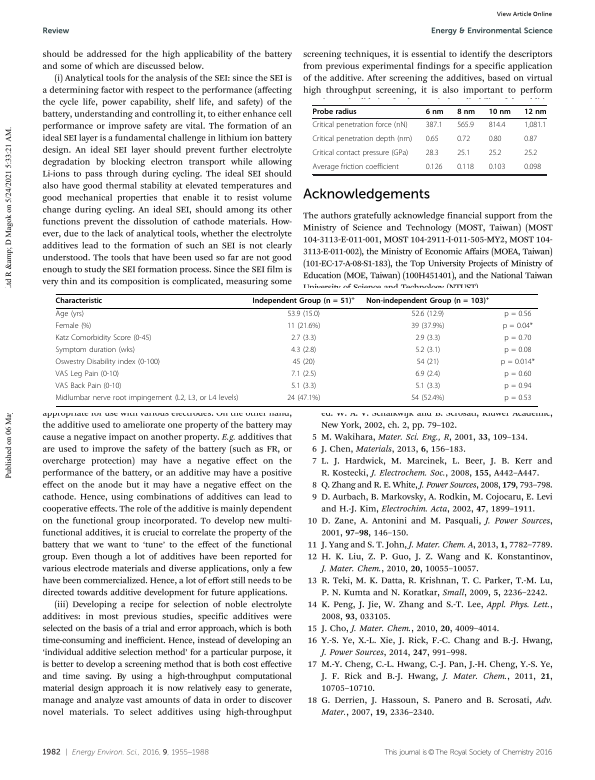borderless: (54, 293, 538, 406), (311, 104, 546, 174)
cell: (55, 394, 239, 403), (365, 295, 490, 306), (252, 295, 356, 306), (55, 358, 161, 368), (55, 334, 152, 344), (312, 135, 413, 144), (312, 149, 409, 158), (312, 121, 408, 130), (55, 346, 136, 356), (312, 163, 400, 172), (55, 382, 122, 391), (55, 370, 120, 379), (55, 297, 103, 306), (55, 322, 92, 332), (312, 108, 358, 116), (500, 358, 536, 368), (286, 310, 321, 320), (286, 322, 321, 332), (410, 322, 445, 332), (411, 310, 445, 320), (502, 322, 534, 332), (286, 394, 321, 403), (410, 394, 445, 403), (55, 310, 85, 320), (503, 310, 532, 320), (503, 334, 532, 344), (503, 346, 532, 356), (290, 334, 317, 344), (414, 334, 441, 344), (290, 346, 317, 356), (414, 346, 441, 356), (503, 370, 532, 379), (503, 382, 532, 391), (503, 394, 532, 403), (290, 370, 317, 379), (414, 370, 441, 379), (290, 382, 317, 391), (414, 382, 441, 391), (292, 358, 316, 368), (416, 358, 440, 368), (523, 121, 547, 130), (488, 108, 512, 116), (523, 108, 547, 116), (456, 121, 475, 130), (456, 163, 475, 172), (523, 163, 542, 172), (425, 121, 443, 130), (488, 121, 506, 130), (425, 163, 443, 172), (488, 163, 506, 172), (456, 108, 476, 116), (425, 108, 444, 116), (456, 135, 471, 144), (523, 135, 538, 144), (456, 149, 471, 158), (523, 149, 538, 158), (425, 135, 439, 144), (488, 135, 502, 144), (425, 149, 439, 158), (488, 149, 502, 158)
